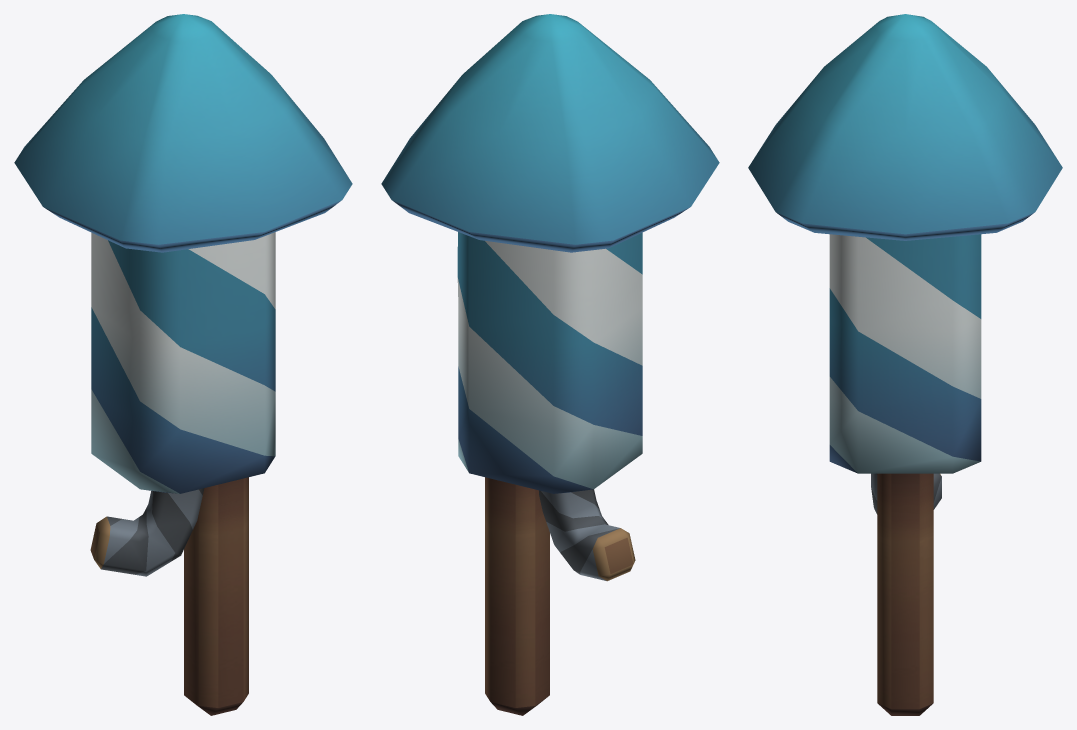
Rendered from rocket_newyear_blue_white.fbx.
The picture shows the model from 3 angles, left to right: view 1: azimuth 30°, elevation 25°; view 2: azimuth 150°, elevation 25°; view 3: azimuth 270°, elevation 25°; orthographic projection. The views are drawn at different scales.
Parts seen in each view (by area): view 1: rocket_newyear_blue_white; view 2: rocket_newyear_blue_white; view 3: rocket_newyear_blue_white.
Part boxes in pixels (x1,y1,x2,y2): rocket_newyear_blue_white: (14, 14, 352, 715); rocket_newyear_blue_white: (381, 14, 719, 715); rocket_newyear_blue_white: (748, 14, 1062, 715).
Size of the model in its own units: 55.78 by 133 by 55.78.
